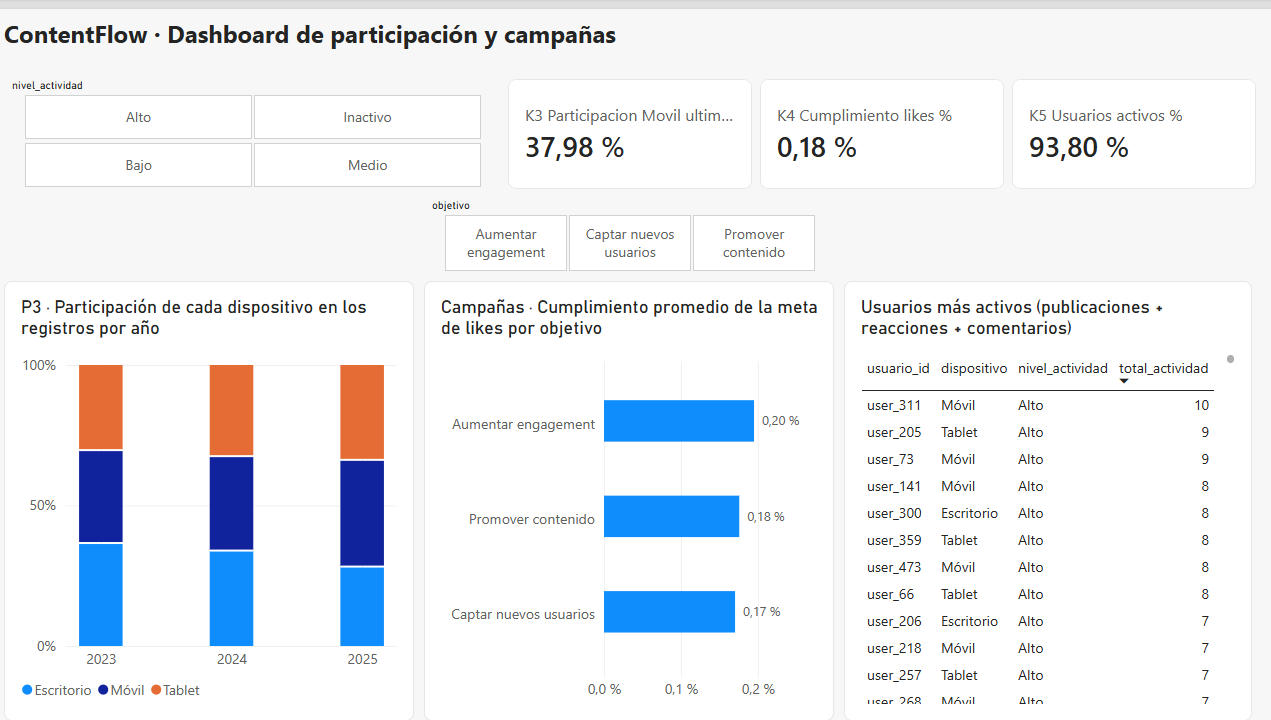

This screenshot's page, from the dashboard's own definition file:
{"tool":"powerbi","page":{"name":"Audiencia y campañas","canvas":[1920,1080],"ordinal":1},"visuals":[{"type":"hundredPercentStackedColumnChart","title":"P3 · Participación de cada dispositivo en los registros por año","fields":{"Category":["p3_registros_dispositivo.anio"],"Series":["p3_registros_dispositivo.dispositivo"],"Y":["Sum(p3_registros_dispositivo.registros)"]},"box":[16,272,410,440],"z":0},{"type":"clusteredBarChart","title":"Campañas · Cumplimiento promedio de la meta de likes por objetivo","fields":{"Category":["campanas.objetivo"],"Y":["fact_publicaciones.K4 Cumplimiento likes %"]},"box":[436,272,410,440],"z":1},{"type":"tableEx","title":"Usuarios más activos (publicaciones + reacciones + comentarios)","fields":{"Values":["dim_usuarios.usuario_id","dim_usuarios.dispositivo","dim_usuarios.nivel_actividad","dim_usuarios.total_actividad"]},"box":[856,272,408,440],"z":2},{"type":"cardVisual","fields":{"Data":["fact_publicaciones.K3 Participacion Movil %"]},"box":[520,70,244,110],"z":3},{"type":"cardVisual","fields":{"Data":["fact_publicaciones.K4 Cumplimiento likes %"]},"box":[772,70,244,110],"z":4},{"type":"cardVisual","fields":{"Data":["fact_publicaciones.K5 Usuarios activos %"]},"box":[1024,70,244,110],"z":5},{"type":"textbox","box":[16,8,640,54],"z":6},{"type":"slicer","fields":{"Values":["dim_usuarios.nivel_actividad"]},"box":[16,70,496,110],"z":7},{"type":"slicer","fields":{"Values":["campanas.objetivo"]},"box":[436,190,410,74],"z":8}]}

Visuals, with their boxes in screenshot pixels (x1, y1, x2, y2), scaled from the page's 1920x1080 canvas onto the 1271x720 screenshot:
"P3 · Participación de cada dispositivo en los registros por año" hundredPercentStackedColumnChart: [x1=11, y1=181, x2=282, y2=475]
"Campañas · Cumplimiento promedio de la meta de likes por objetivo" clusteredBarChart: [x1=289, y1=181, x2=560, y2=475]
"Usuarios más activos (publicaciones + reacciones + comentarios)" tableEx: [x1=567, y1=181, x2=837, y2=475]
cardVisual - fact_publicaciones.K3 Participacion Movil %: [x1=344, y1=47, x2=506, y2=120]
cardVisual - fact_publicaciones.K4 Cumplimiento likes %: [x1=511, y1=47, x2=673, y2=120]
cardVisual - fact_publicaciones.K5 Usuarios activos %: [x1=678, y1=47, x2=839, y2=120]
textbox: [x1=11, y1=5, x2=434, y2=41]
slicer - dim_usuarios.nivel_actividad: [x1=11, y1=47, x2=339, y2=120]
slicer - campanas.objetivo: [x1=289, y1=127, x2=560, y2=176]
